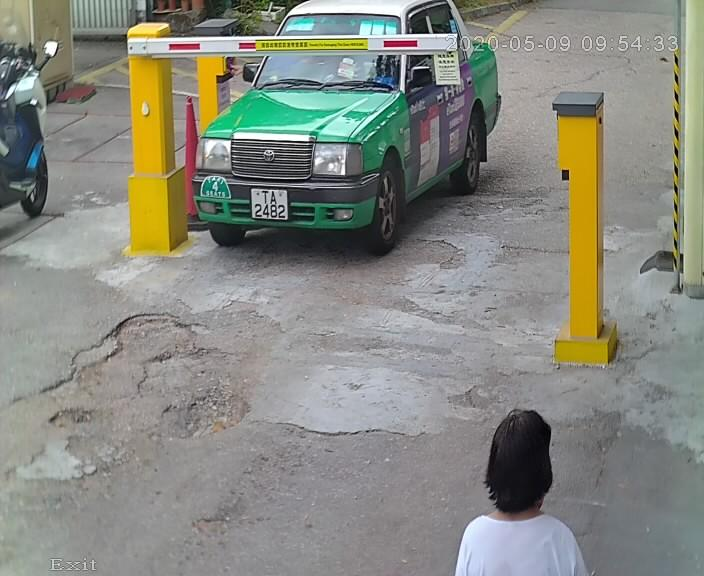Car: (182, 1, 507, 250)
License Plate: (246, 181, 294, 223)
